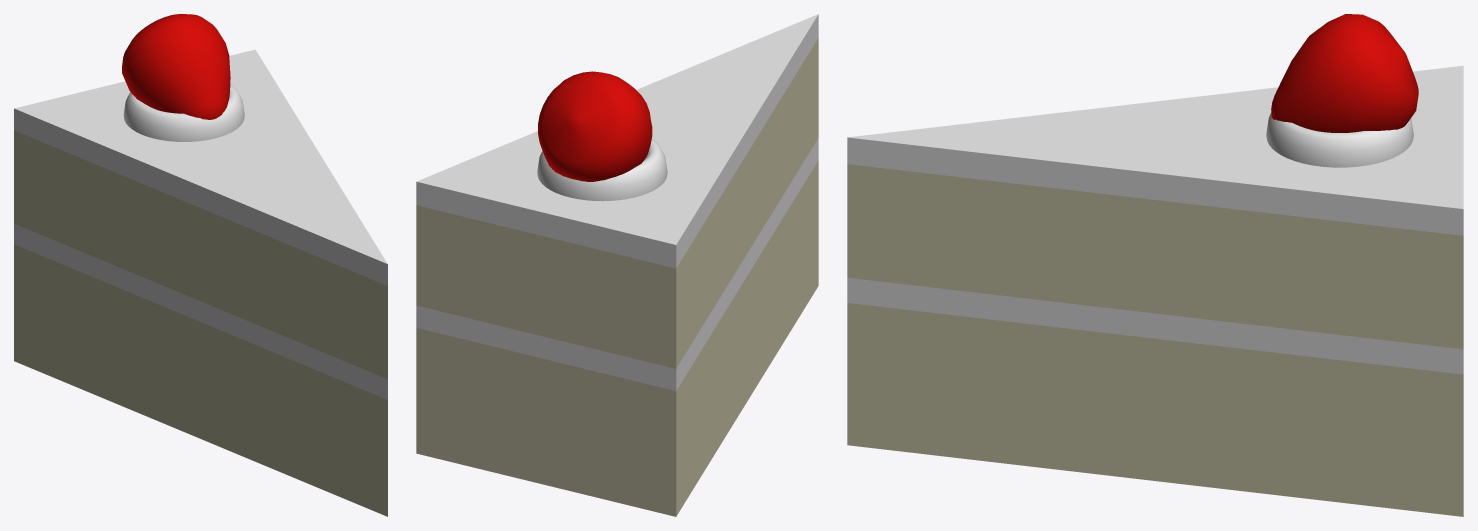
File: cake.fbx
The picture shows the model from 3 angles, left to right: view 1: azimuth 30°, elevation 25°; view 2: azimuth 150°, elevation 25°; view 3: azimuth 270°, elevation 25°; orthographic projection. The views are drawn at different scales.
Parts seen in each view (by area): view 1: Cube, Sphere, Torus; view 2: Cube, Sphere, Torus; view 3: Cube, Sphere, Torus.
Boxes of the visible parts, x1=… form: Cube: x1=14, y1=49, x2=387, y2=516; Sphere: x1=122, y1=14, x2=230, y2=119; Torus: x1=123, y1=84, x2=244, y2=141; Cube: x1=416, y1=14, x2=818, y2=516; Sphere: x1=538, y1=71, x2=652, y2=181; Torus: x1=537, y1=138, x2=667, y2=201; Cube: x1=847, y1=65, x2=1463, y2=516; Sphere: x1=1271, y1=14, x2=1418, y2=132; Torus: x1=1266, y1=113, x2=1413, y2=167.
Size of the model in its own units: 200 by 275 by 363.
